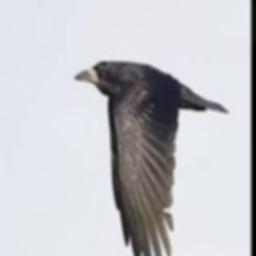Crow: (73, 60, 228, 256)
